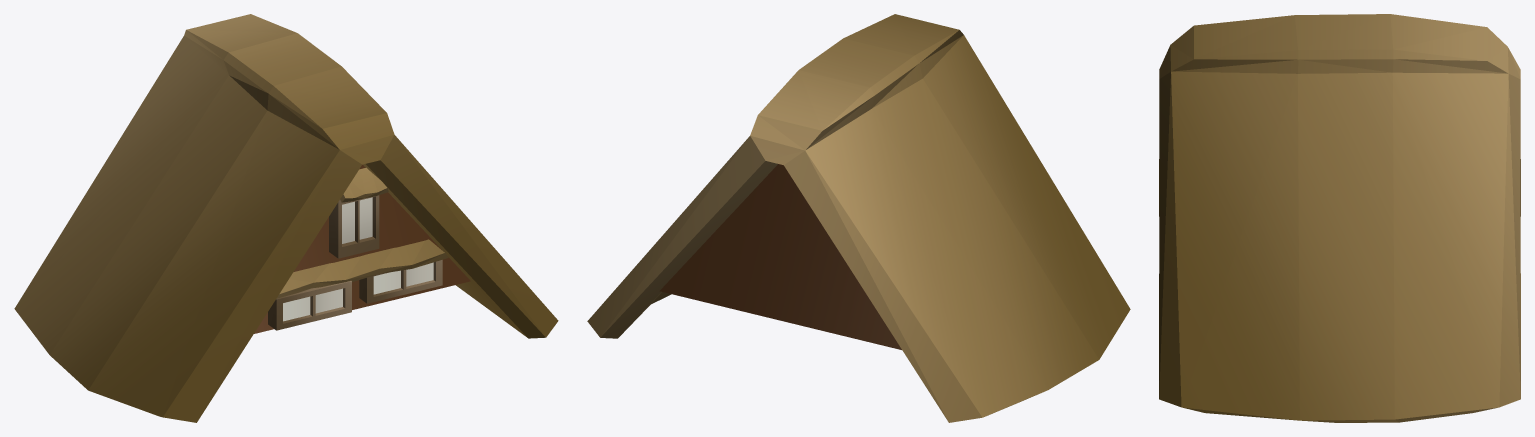
File: Farmhouse_RoofFull.gltf
The picture shows the model from 3 angles, left to right: view 1: azimuth 30°, elevation 25°; view 2: azimuth 150°, elevation 25°; view 3: azimuth 270°, elevation 25°; orthographic projection. The views are drawn at different scales.
Visible parts, largest first — view 1: Farmhouse_RoofFull; view 2: Farmhouse_RoofFull; view 3: Farmhouse_RoofFull.
Boxes of the visible parts, x1,y1,x2,y2 form: Farmhouse_RoofFull: (14,14,558,422); Farmhouse_RoofFull: (587,14,1130,422); Farmhouse_RoofFull: (1159,14,1520,422).
Bounding box in the file's own units: 7.12 × 4.3 × 4.8.
Materials: 1 (1 with a texture image).
